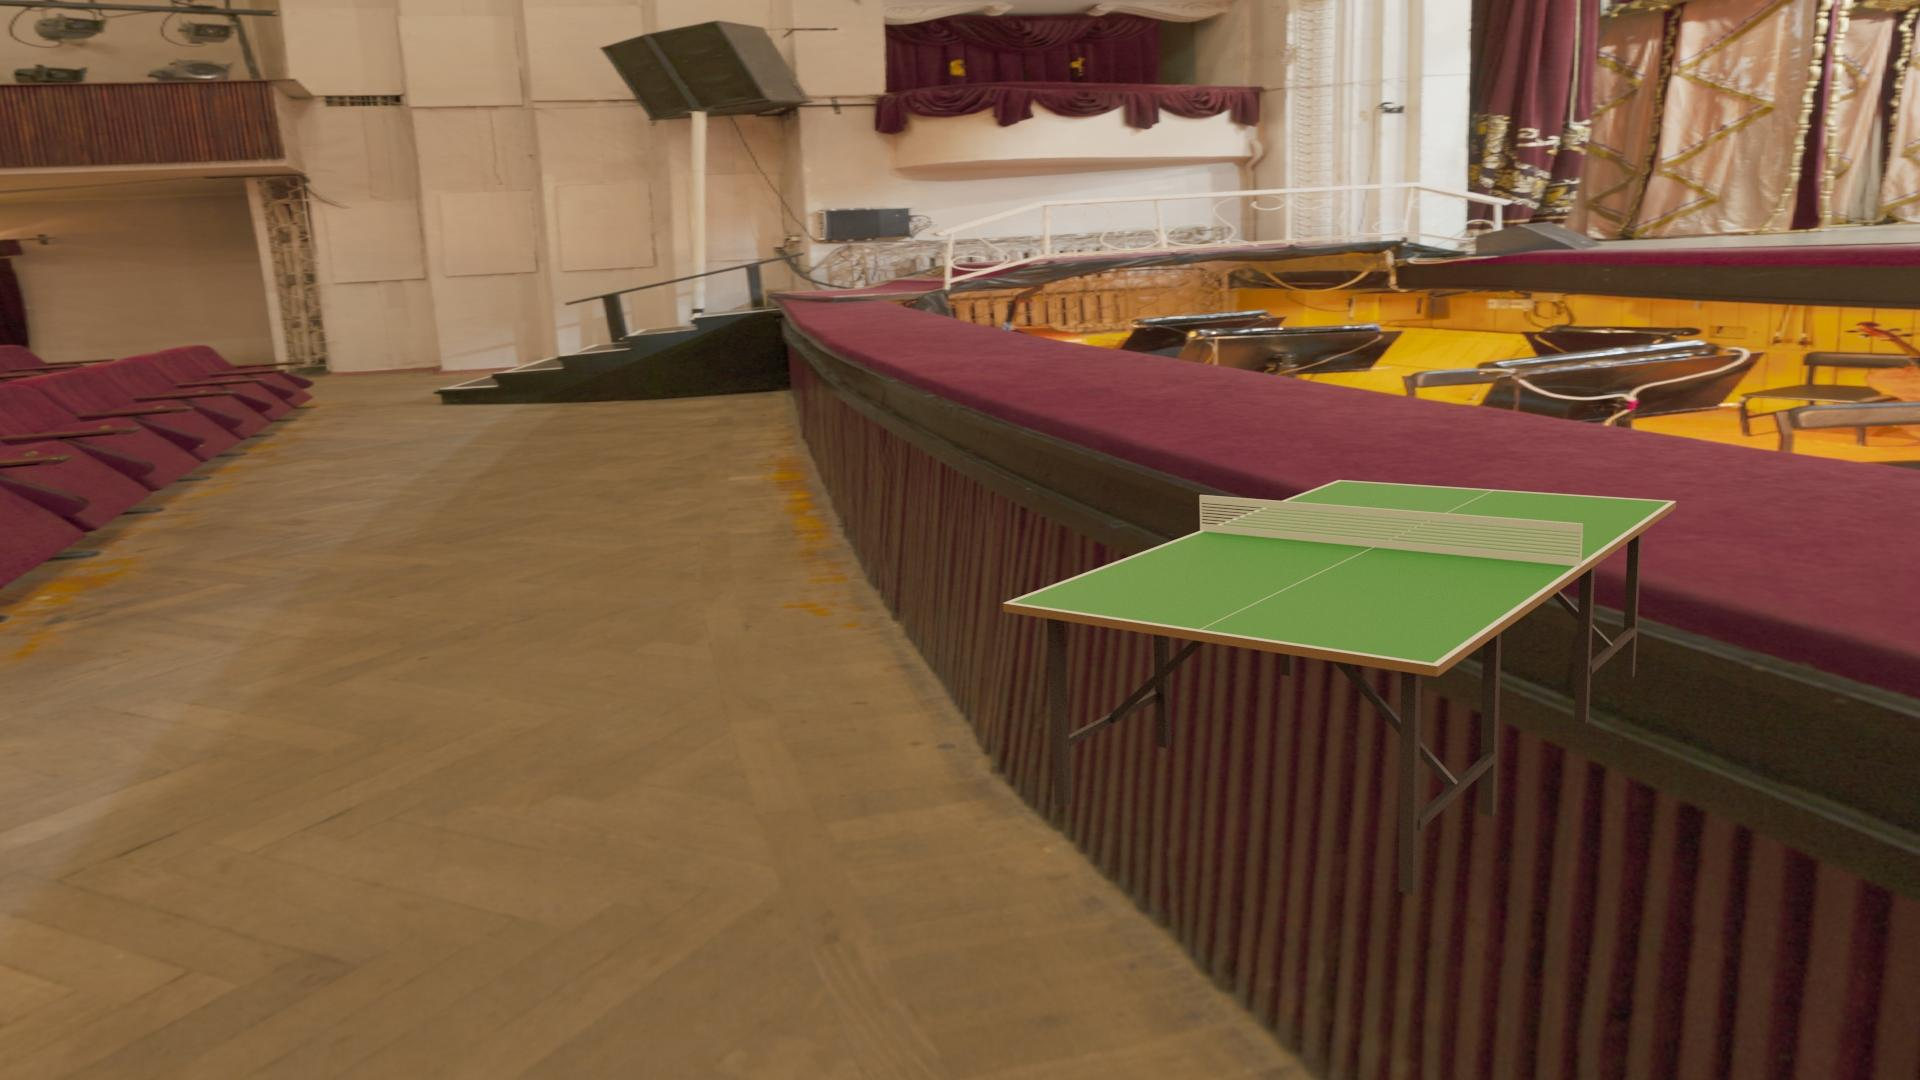table: (1011, 481, 1669, 663)
